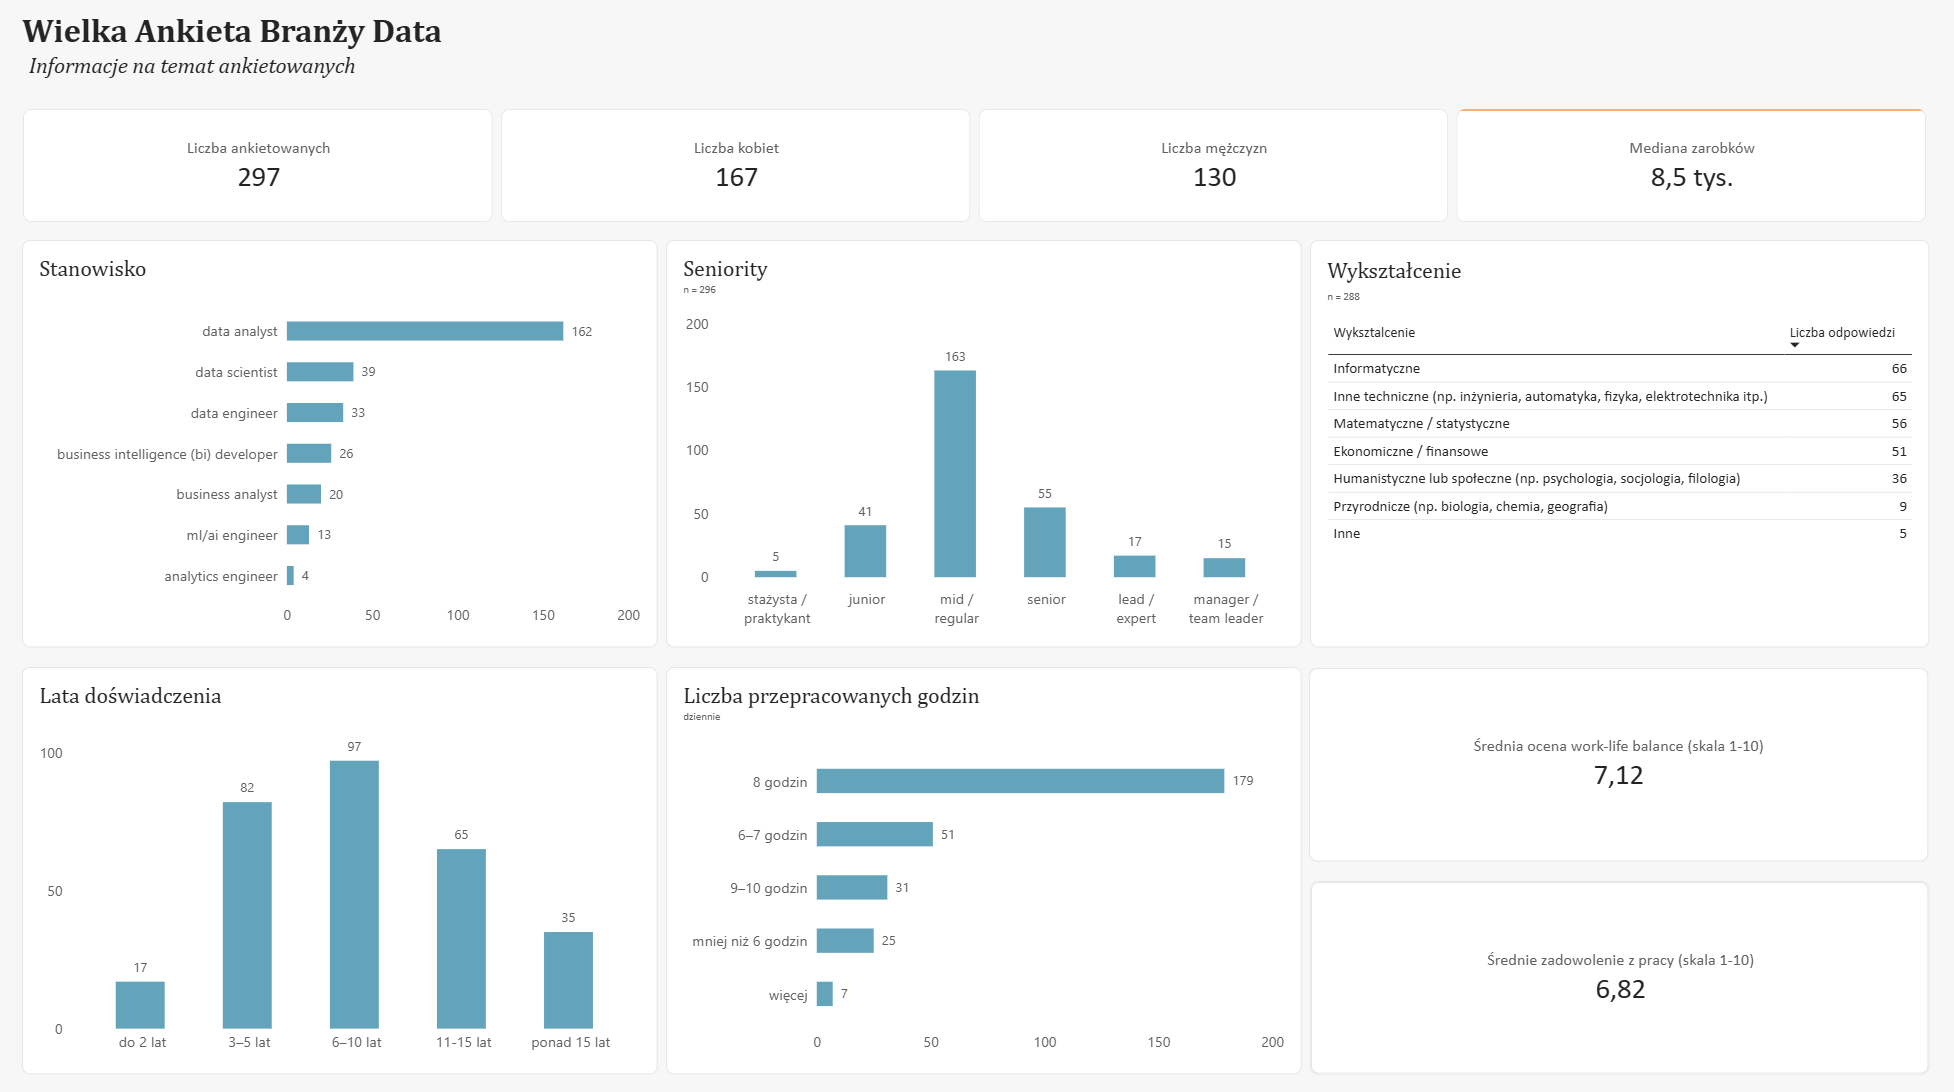

This screenshot's page, from the dashboard's own definition file:
{"tool":"powerbi","page":{"name":"Ankietowani","canvas":[1920,1080],"ordinal":0},"visuals":[{"type":"barChart","title":"Stanowisko","fields":{"Category":["VW_OGOLNE.stanowisko"],"Y":["VW_OGOLNE.liczba_ankietowanych"]},"box":[24,240,624,400],"z":0},{"type":"cardVisual","fields":{"Data":["VW_OGOLNE.liczba_ankietowanych","VW_OGOLNE.liczba_kobiet","VW_OGOLNE.liczba_mezczyzn","Median(VW_OGOLNE.zarobki)2"]},"box":[24.5,111.7,1871.1,111.7],"z":1000},{"type":"clusteredColumnChart","title":"Seniority","fields":{"Category":["ogolne.seniority"],"Y":["VW_OGOLNE.liczba_ankietowanych"]},"box":[656,240,624,400],"z":2000},{"type":"tableEx","title":"Wykształcenie","fields":{"Values":["VW_OGOLNE.wyksztalcenie","VW_OGOLNE.liczba_ankietowanych"]},"box":[1288,240,608,400],"z":3000},{"type":"barChart","title":"Liczba przepracowanych godzin","fields":{"Category":["well_being.ile godzin dziennie średnio pracujesz"],"Y":["VW_OGOLNE.liczba_ankietowanych"]},"box":[656,660,624,400],"z":4000},{"type":"cardVisual","fields":{"Data":["Avg(well_being.jak oceniasz swoją równowagę między pracą a życiem prywatnym (work-life balance))"]},"box":[1286.6,660.1,608,190],"z":5000},{"type":"columnChart","title":"Lata doświadczenia","fields":{"Category":["ogolne.lata doświadczenia"],"Y":["VW_OGOLNE.liczba_ankietowanych"]},"box":[24,660,624,400],"z":6000},{"type":"cardVisual","fields":{"Data":["Avg(well_being.w jaki stopniu jesteś zadowolona/y ze swojej pracy)"]},"box":[1287.6,869.9,608,190],"z":7000},{"type":"textbox","box":[1214,174.5,60.4,39.2],"z":8000},{"type":"textbox","box":[23.6,15.7,424,48.1],"z":9000},{"type":"textbox","box":[30.4,56.9,377.9,36.3],"z":10000}]}

Visuals, with their boxes in screenshot pixels (x1, y1, x2, y2), scaled from the page's 1920x1080 canvas onto the 1954x1092 screenshot:
"Stanowisko" barChart: x1=24 y1=243 x2=659 y2=647
cardVisual - VW_OGOLNE.liczba_ankietowanych x VW_OGOLNE.liczba_kobiet: x1=25 y1=113 x2=1929 y2=226
"Seniority" clusteredColumnChart: x1=668 y1=243 x2=1303 y2=647
"Wykształcenie" tableEx: x1=1311 y1=243 x2=1930 y2=647
"Liczba przepracowanych godzin" barChart: x1=668 y1=667 x2=1303 y2=1072
cardVisual - Avg(well_being.jak oceniasz swoją równowagę między pracą a życiem prywatnym (work-life balance)): x1=1309 y1=667 x2=1928 y2=860
"Lata doświadczenia" columnChart: x1=24 y1=667 x2=659 y2=1072
cardVisual - Avg(well_being.w jaki stopniu jesteś zadowolona/y ze swojej pracy): x1=1310 y1=880 x2=1929 y2=1072
textbox: x1=1235 y1=176 x2=1297 y2=216
textbox: x1=24 y1=16 x2=456 y2=65
textbox: x1=31 y1=58 x2=416 y2=94
